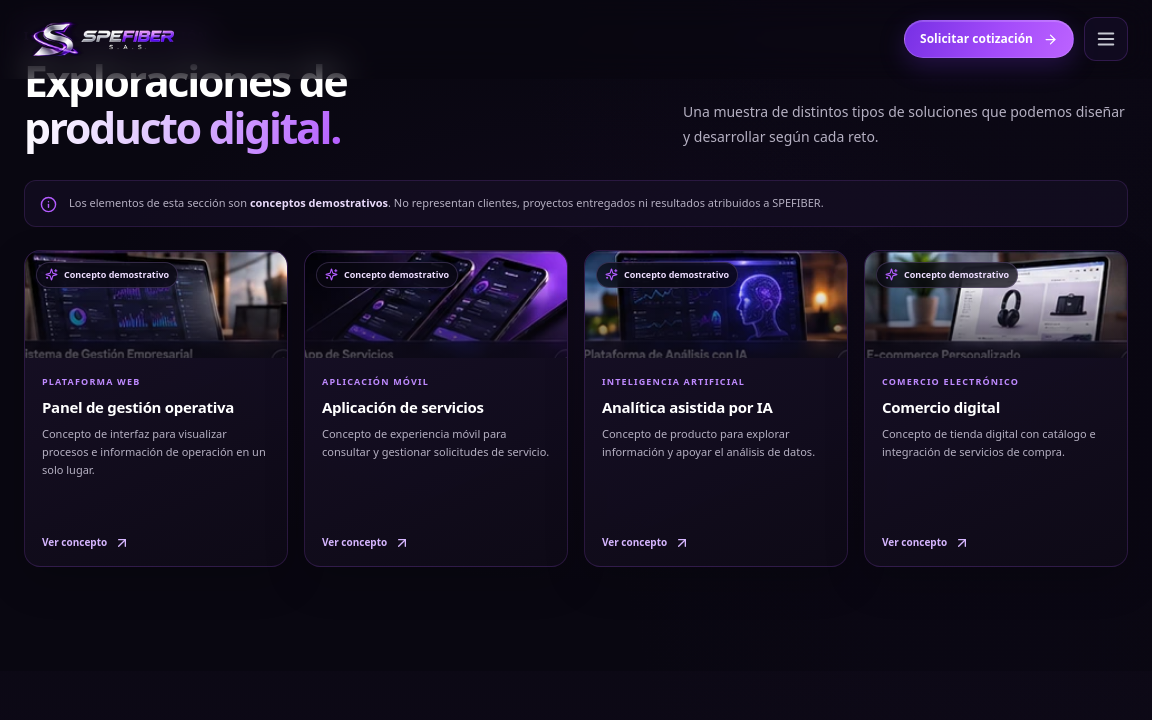
Test: landing SPEFIBER › transfiere el proyecto de referencia al formulario al solicitar una solución similar
The width and height of the screenshot is (1152, 720).
(page scrolled)
Click the button with aria-label "Ver detalles de Analítica asistida por IA". click: (716, 408)
box: [585, 251, 847, 566]
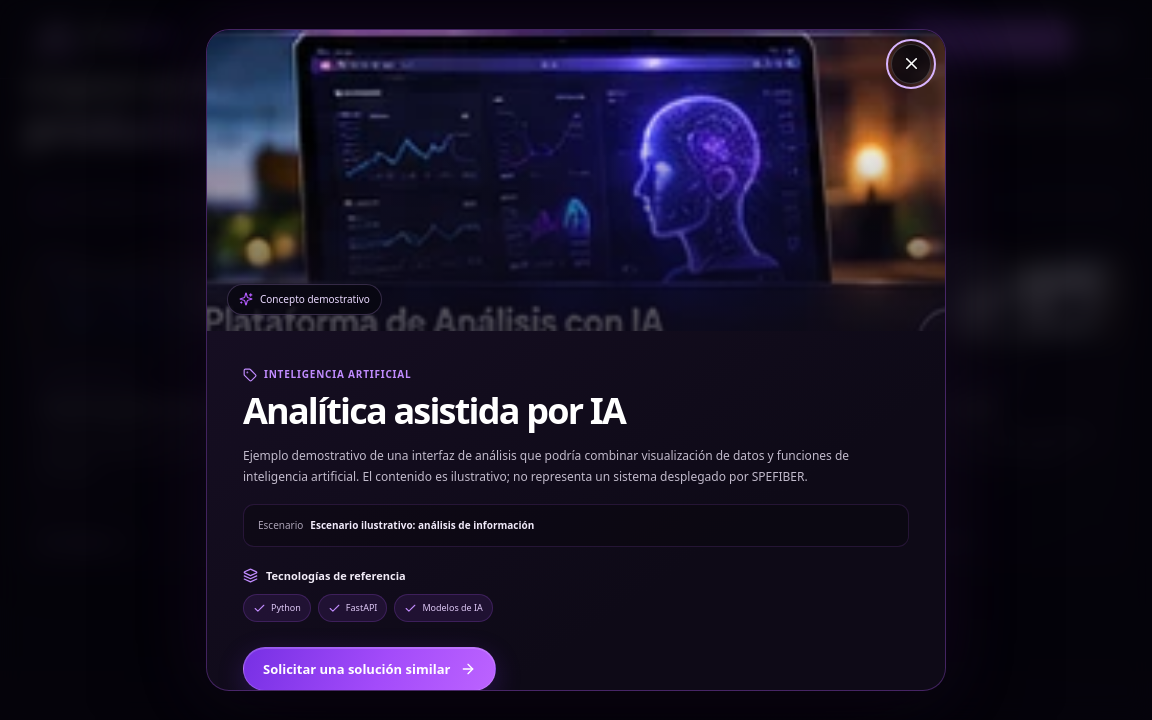
Click the link "Solicitar una solución similar". click: (370, 669)
box: [243, 647, 496, 691]
(page scrolled)
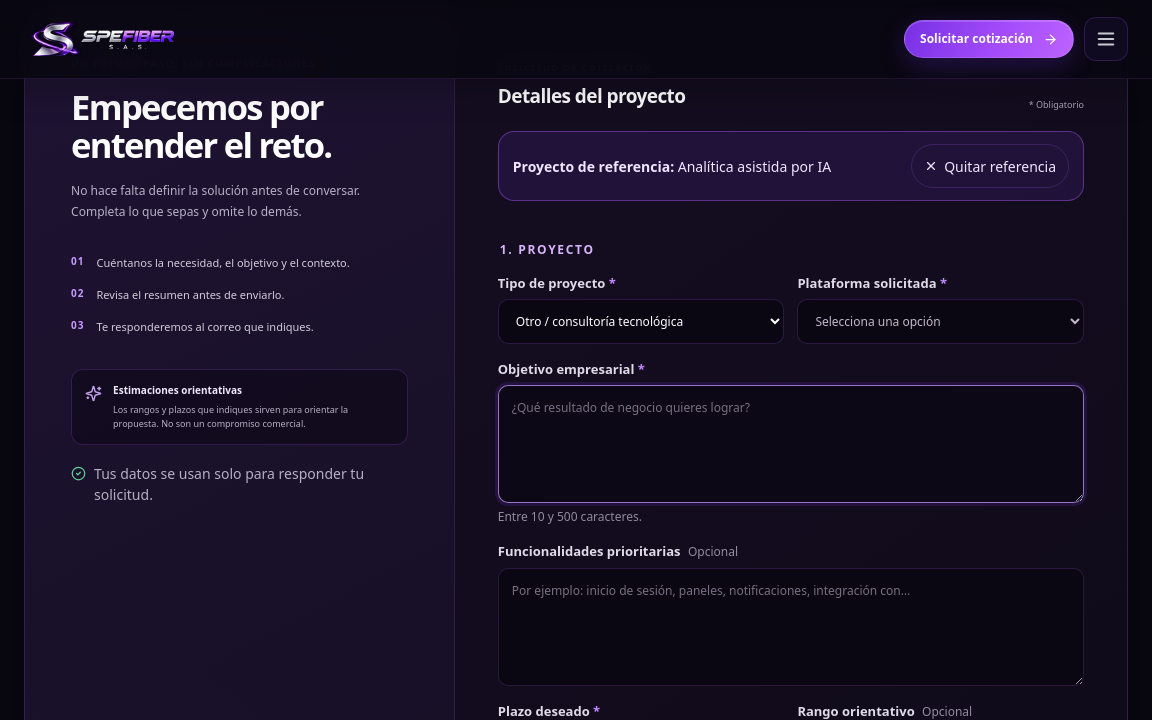
Expected: the dialog is gone
Expected: the text "Proyecto de referencia: Analítica asistida por IA" is shown, [513, 156, 831, 177]
Click the button "Quitar referencia". click: (990, 166)
box: [911, 144, 1069, 188]
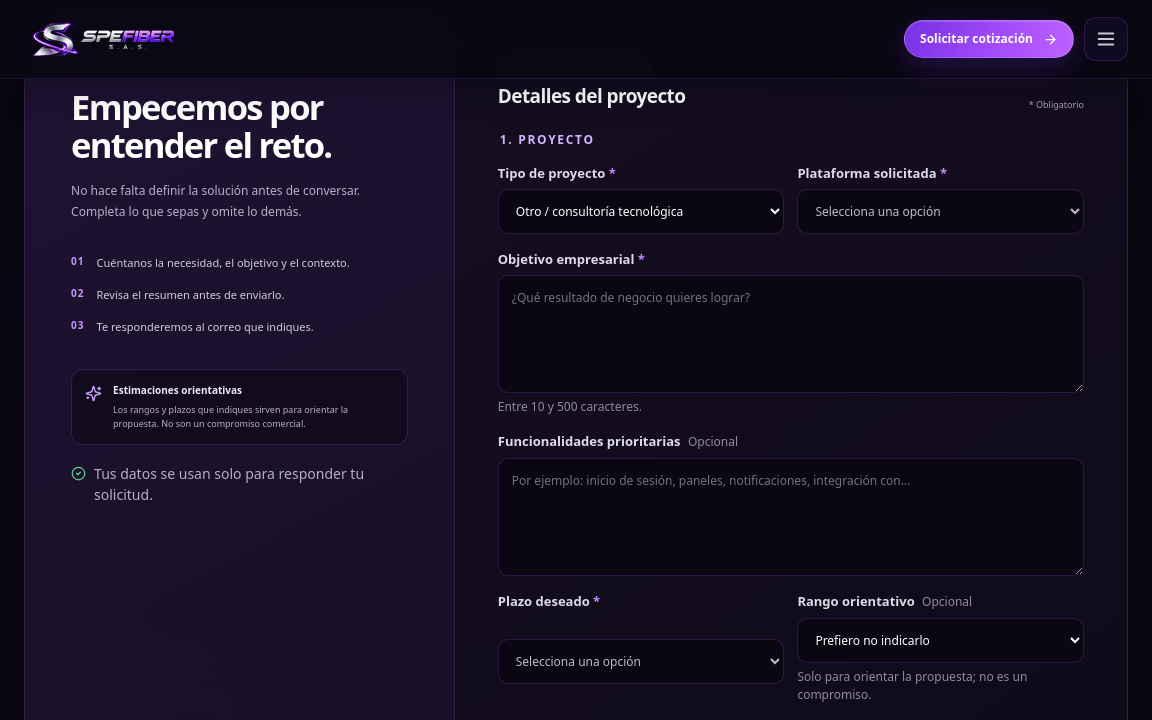
Expected: the text "Proyecto de referencia" is gone
